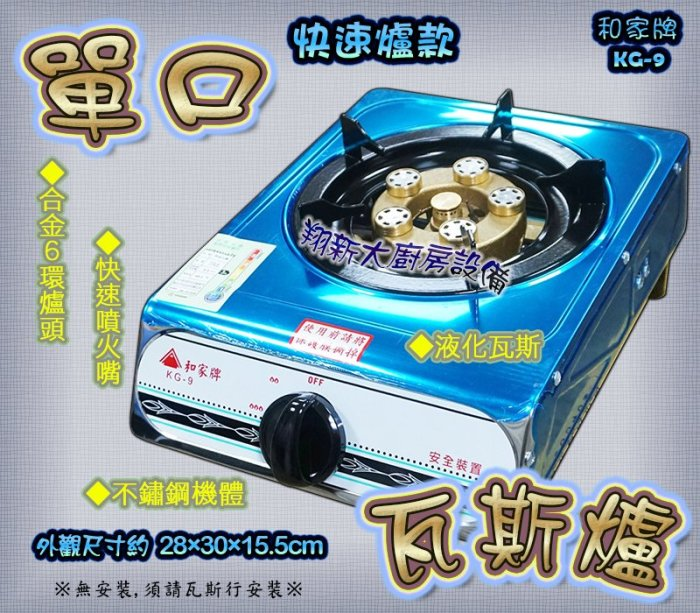gasoven: (117, 83, 694, 533)
